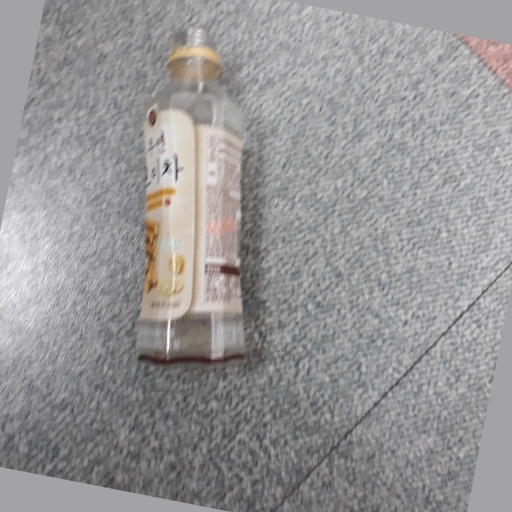Plastic_0: (135, 28, 248, 370)
